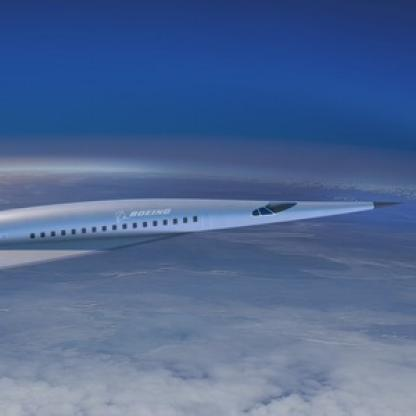CIV_Plane: (0, 196, 408, 270)
